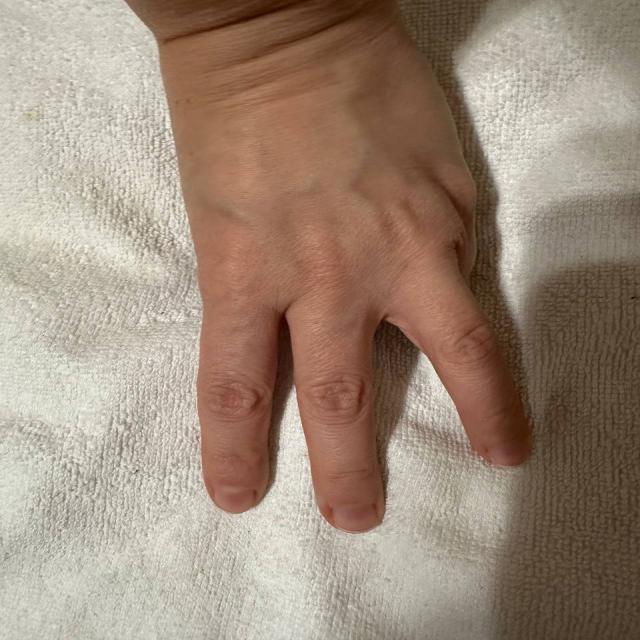m: (151, 75, 569, 542)
